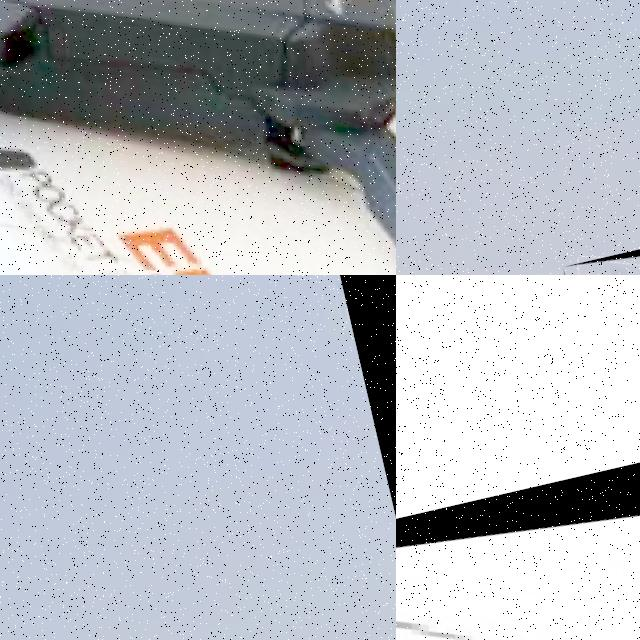drone: (0, 0, 396, 275), (396, 442, 640, 640)
